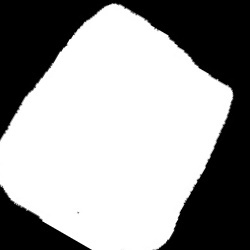spot: (1, 6, 234, 249)
